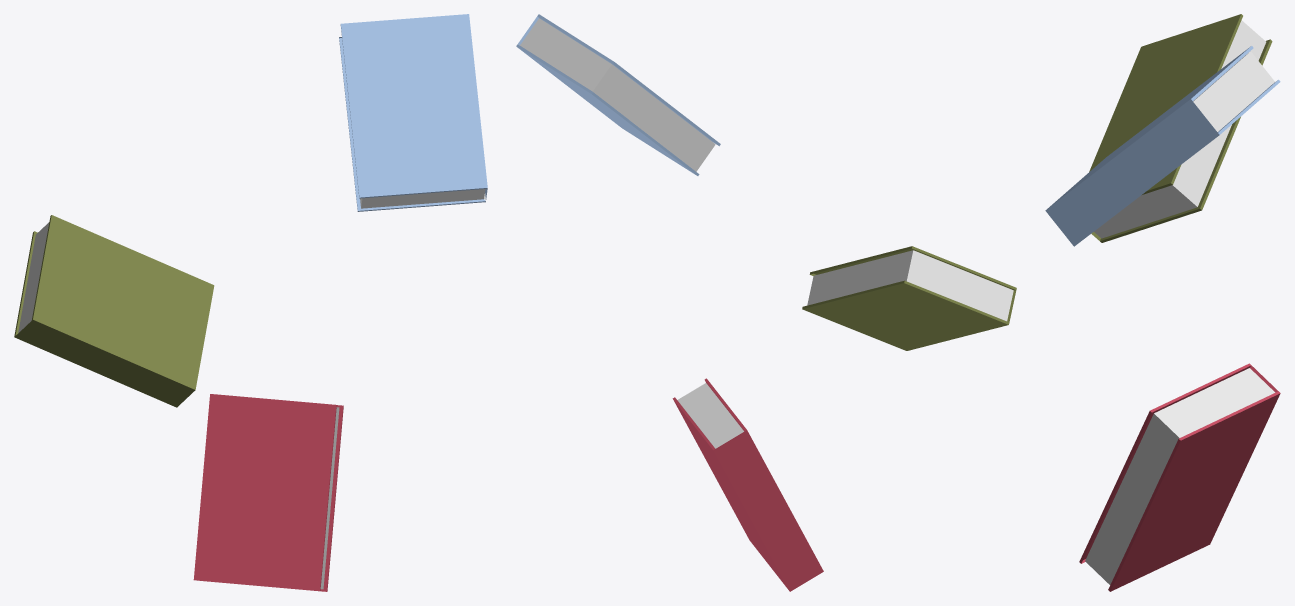
Rendered from books.glb.
The picture shows the model from 3 angles, left to right: view 1: azimuth 30°, elevation 25°; view 2: azimuth 150°, elevation 25°; view 3: azimuth 270°, elevation 25°; orthographic projection. The views are drawn at different scales.
Parts seen in each view (by area): view 1: Cube.021, Cube.002, Cube.001; view 2: Cube.001, Cube.021, Cube.002; view 3: Cube.021, Cube.001, Cube.002.
Part boxes in pixels (x1=…): Cube.021: x1=193, y1=394, x2=343, y2=591; Cube.002: x1=339, y1=14, x2=487, y2=211; Cube.001: x1=14, y1=215, x2=214, y2=407; Cube.001: x1=802, y1=246, x2=1016, y2=350; Cube.021: x1=672, y1=378, x2=823, y2=591; Cube.002: x1=516, y1=14, x2=720, y2=175; Cube.021: x1=1079, y1=363, x2=1280, y2=591; Cube.001: x1=1089, y1=14, x2=1272, y2=242; Cube.002: x1=1045, y1=46, x2=1280, y2=246.
Size of the model in its own units: 4.34 by 4.47 by 1.61.
